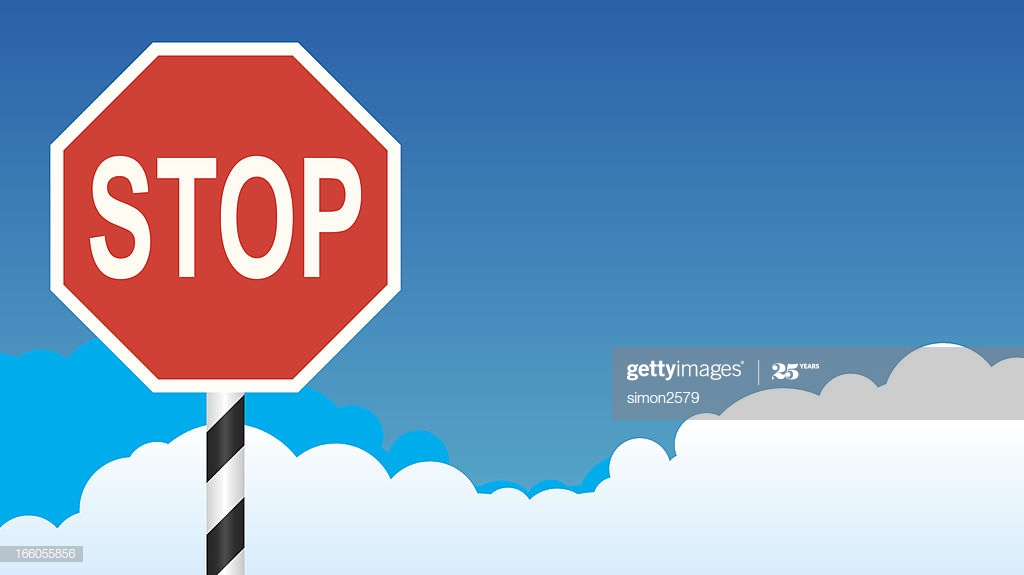stop: (44, 38, 404, 396)
